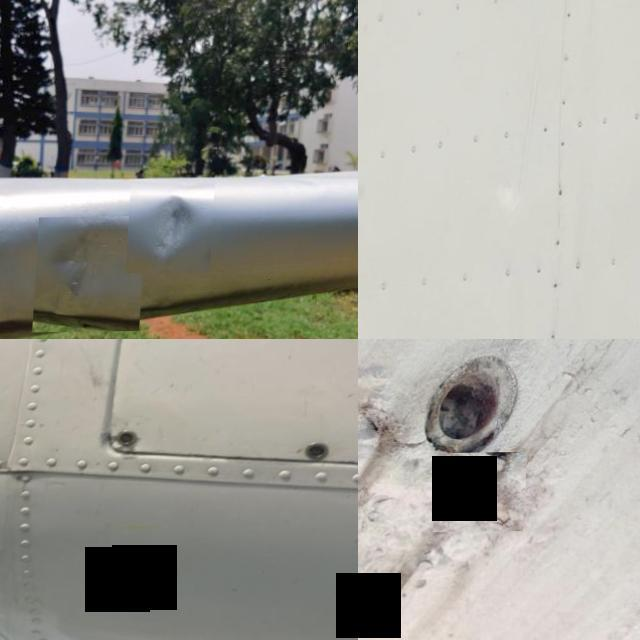Crack: (438, 453, 532, 533)
Dent: (37, 217, 150, 333), (130, 183, 218, 275)
